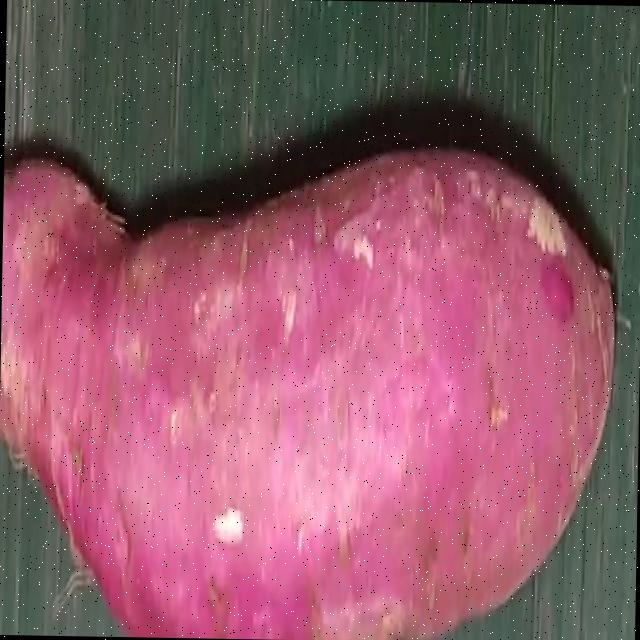Sweet Potato: (0, 142, 616, 640)
